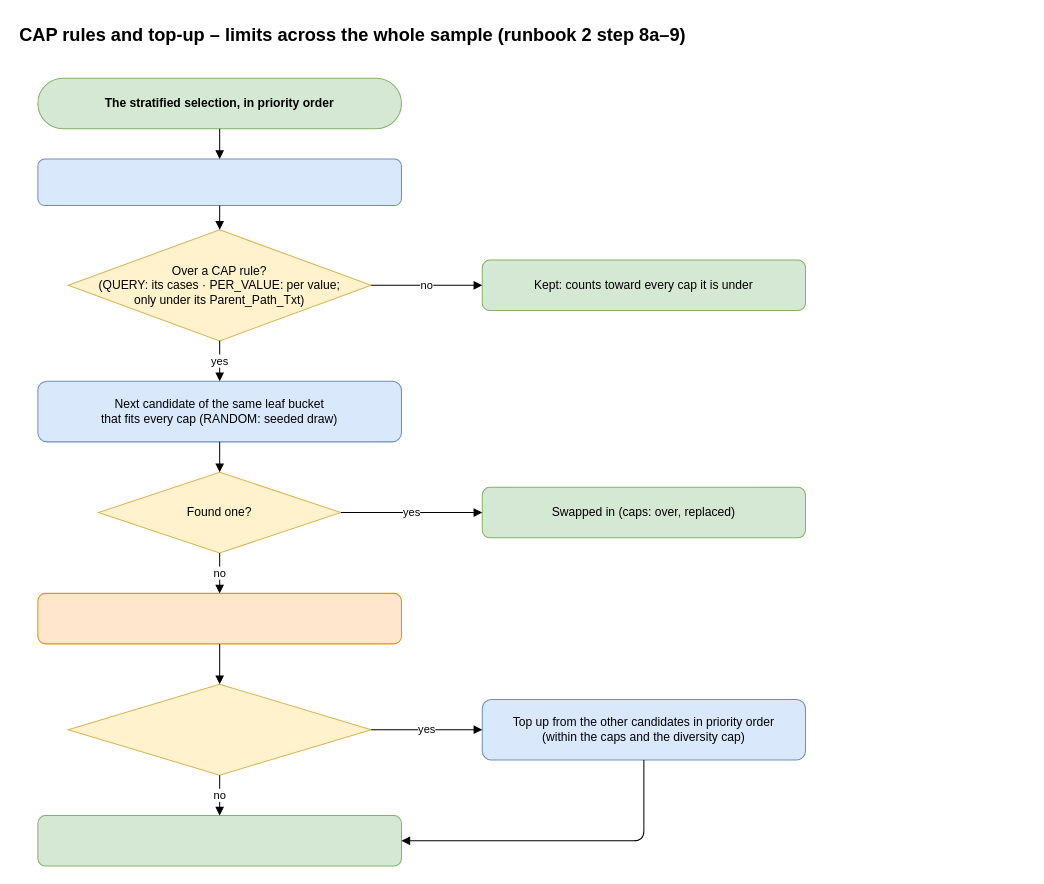
Image size: 1044x884. Some labels were removed from this diagram. The box of each missing label's shape, as (x1, y1, x2, y2) in pixels:
Left out: the bucket is one short (noted): (37, 592, 401, 644)
Next selected case: (37, 158, 401, 206)
Short of the target and Shortfall_Cd TOPUP?: (67, 683, 371, 775)
The sample · shortfall = target − selected: (37, 815, 401, 866)
